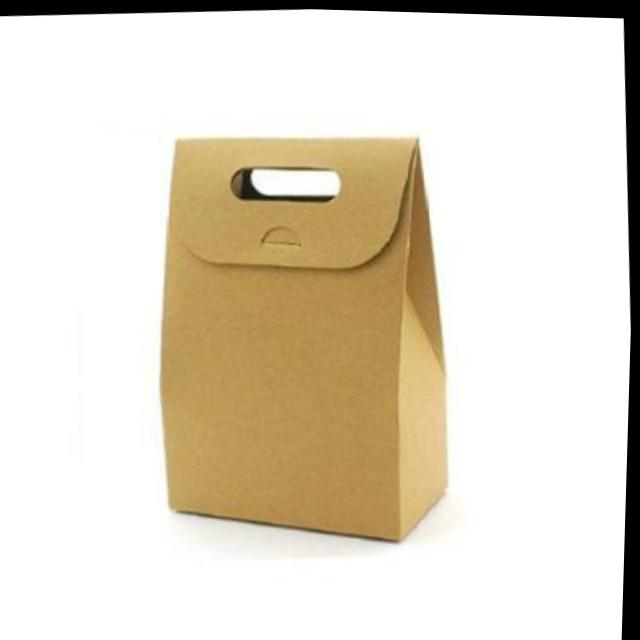box: (129, 112, 482, 564)
